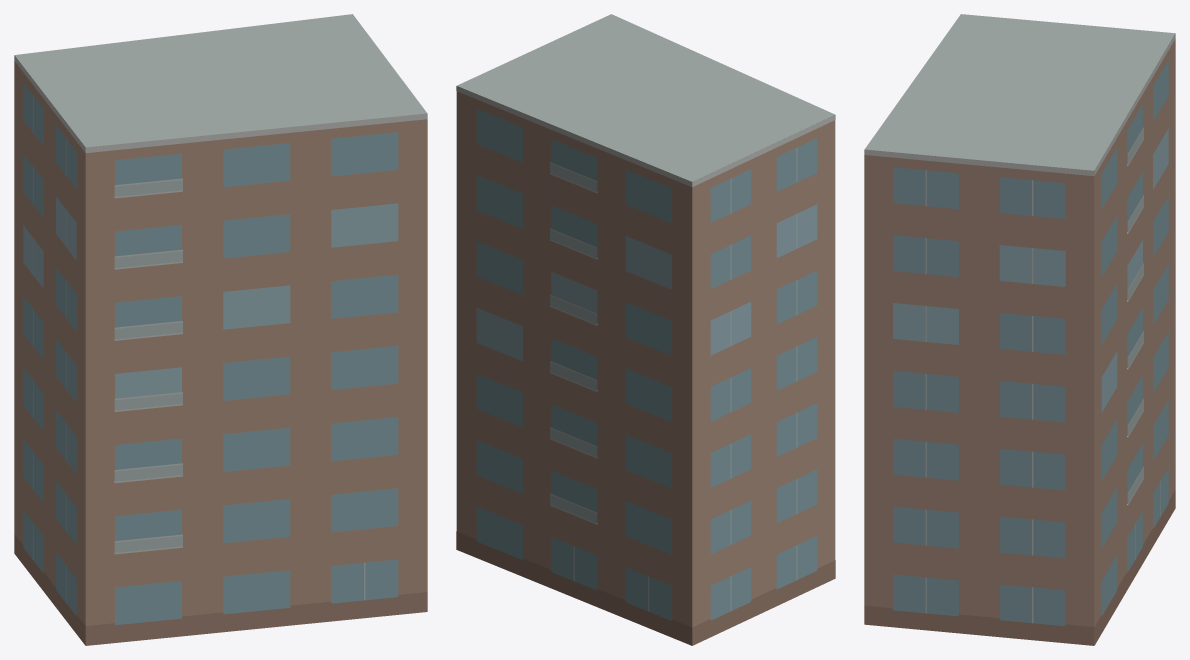
File: survey-upis-32747849.glb
The picture shows the model from 3 angles, left to right: view 1: azimuth 30°, elevation 25°; view 2: azimuth 150°, elevation 25°; view 3: azimuth 270°, elevation 25°; orthographic projection. The views are drawn at different scales.
Parts seen in each view (by area): view 1: survey-upis-32747849.tmp; view 2: survey-upis-32747849.tmp; view 3: survey-upis-32747849.tmp.
Boxes of the visible parts, box(x1,y1,x2,y2) form: survey-upis-32747849.tmp: box(14, 14, 427, 645); survey-upis-32747849.tmp: box(456, 14, 835, 645); survey-upis-32747849.tmp: box(864, 14, 1175, 645).
Size of the model in its own units: 15.12 by 21.35 by 12.68.
